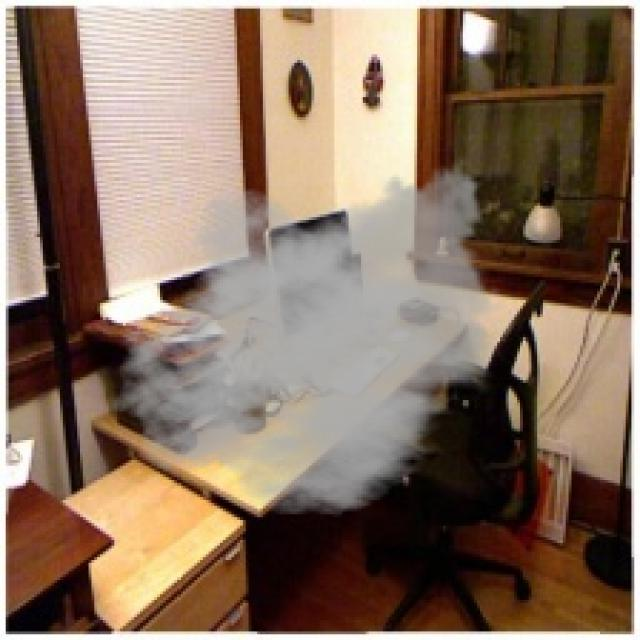smoke: (106, 152, 506, 517)
